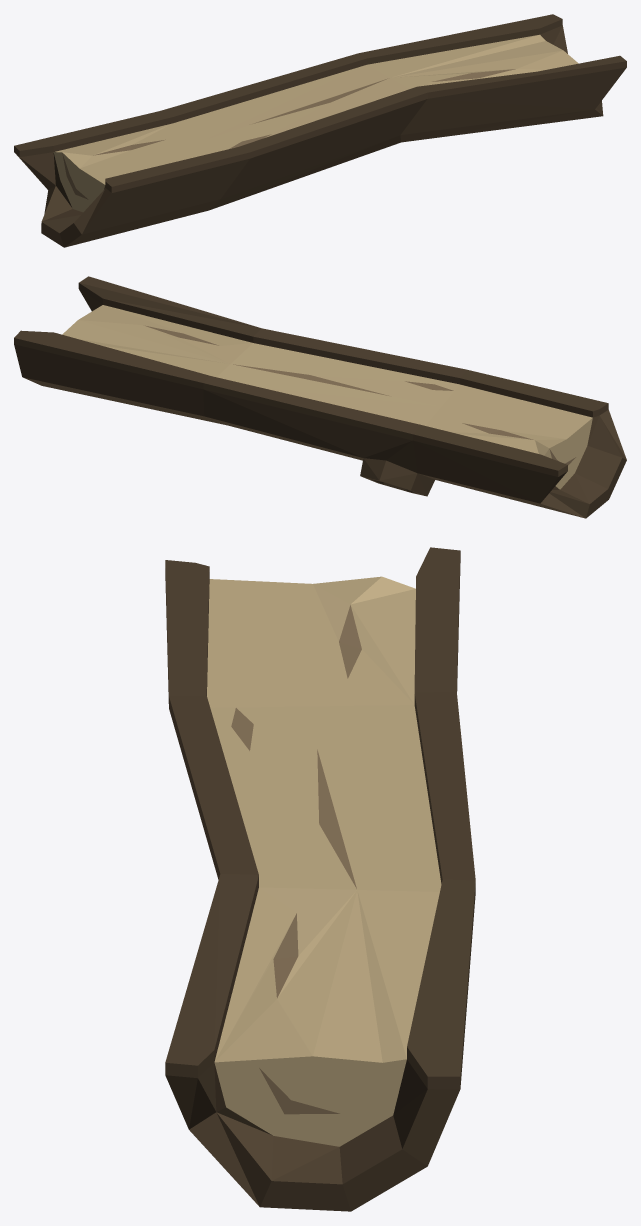
The model's file is loghalf.glb.
3 renders of one model, top to bottom at view 1: azimuth 30°, elevation 25°; view 2: azimuth 150°, elevation 25°; view 3: azimuth 270°, elevation 25°, orthographic. The views are drawn at different scales.
Parts seen in each view (by area): view 1: SM_Prop_Loghalf_01; view 2: SM_Prop_Loghalf_01; view 3: SM_Prop_Loghalf_01.
Boxes of the visible parts, x1,y1,x2,y2 form: SM_Prop_Loghalf_01: (14,14,626,247); SM_Prop_Loghalf_01: (14,276,626,518); SM_Prop_Loghalf_01: (165,547,475,1211).
Size of the model in its own units: 257 by 42.92 by 63.79.
1 material, 1 textured.
